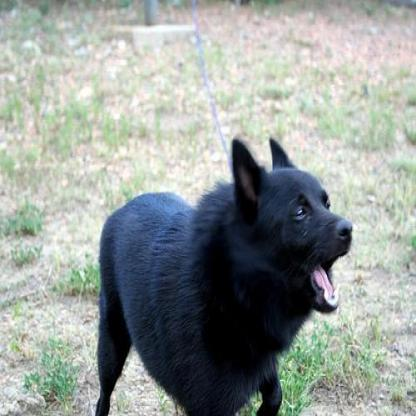schipperke: (92, 131, 352, 412)
